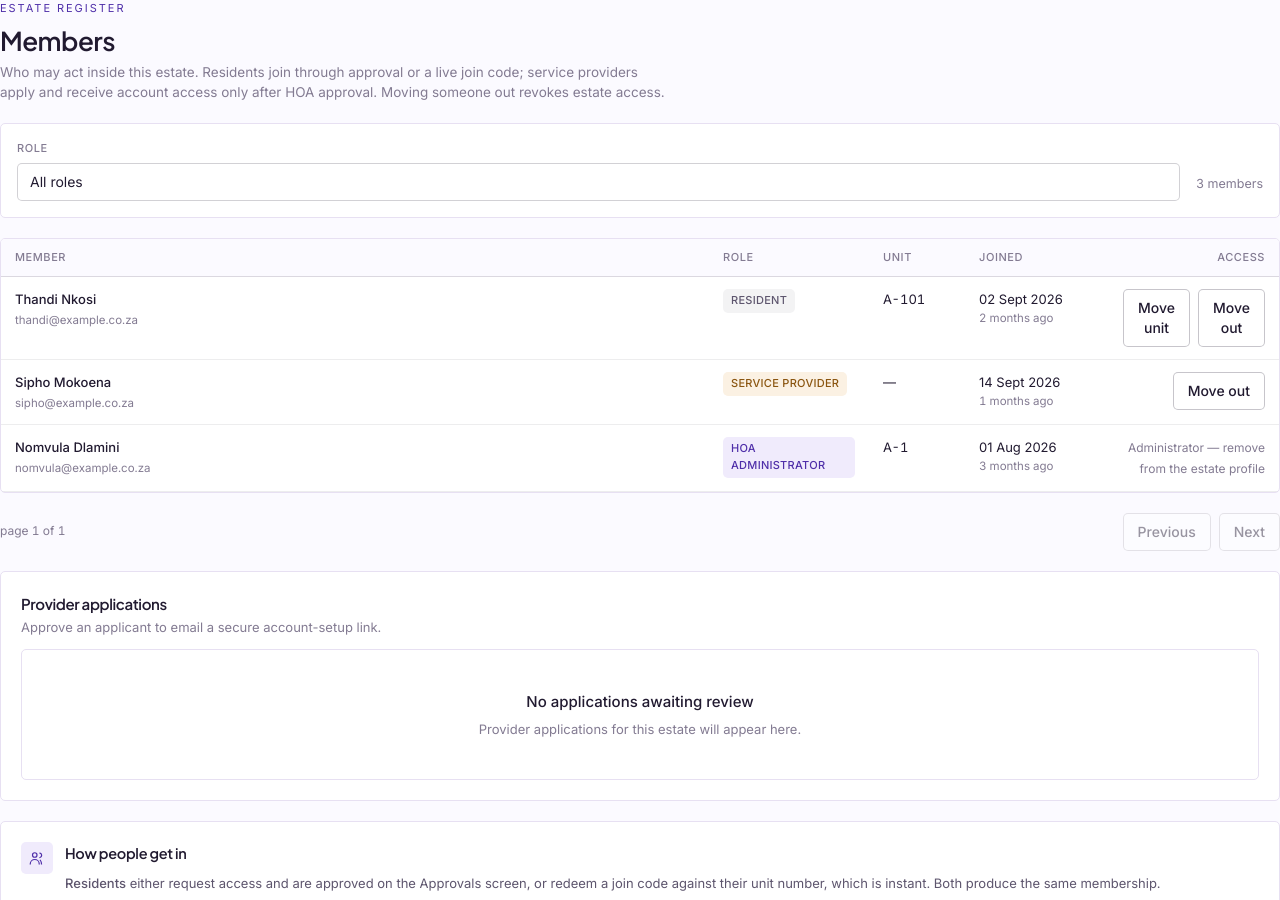
Scenario: Members — removal › confirms first, and spells out what removal does not undo
Check: the text "Thandi Nkosi" is shown, box x1=15 y1=292 x2=96 y2=308
Click the button "Move out" in the row of "Thandi Nkosi".
click(1232, 318)  # box x1=1198 y1=290 x2=1265 y2=348
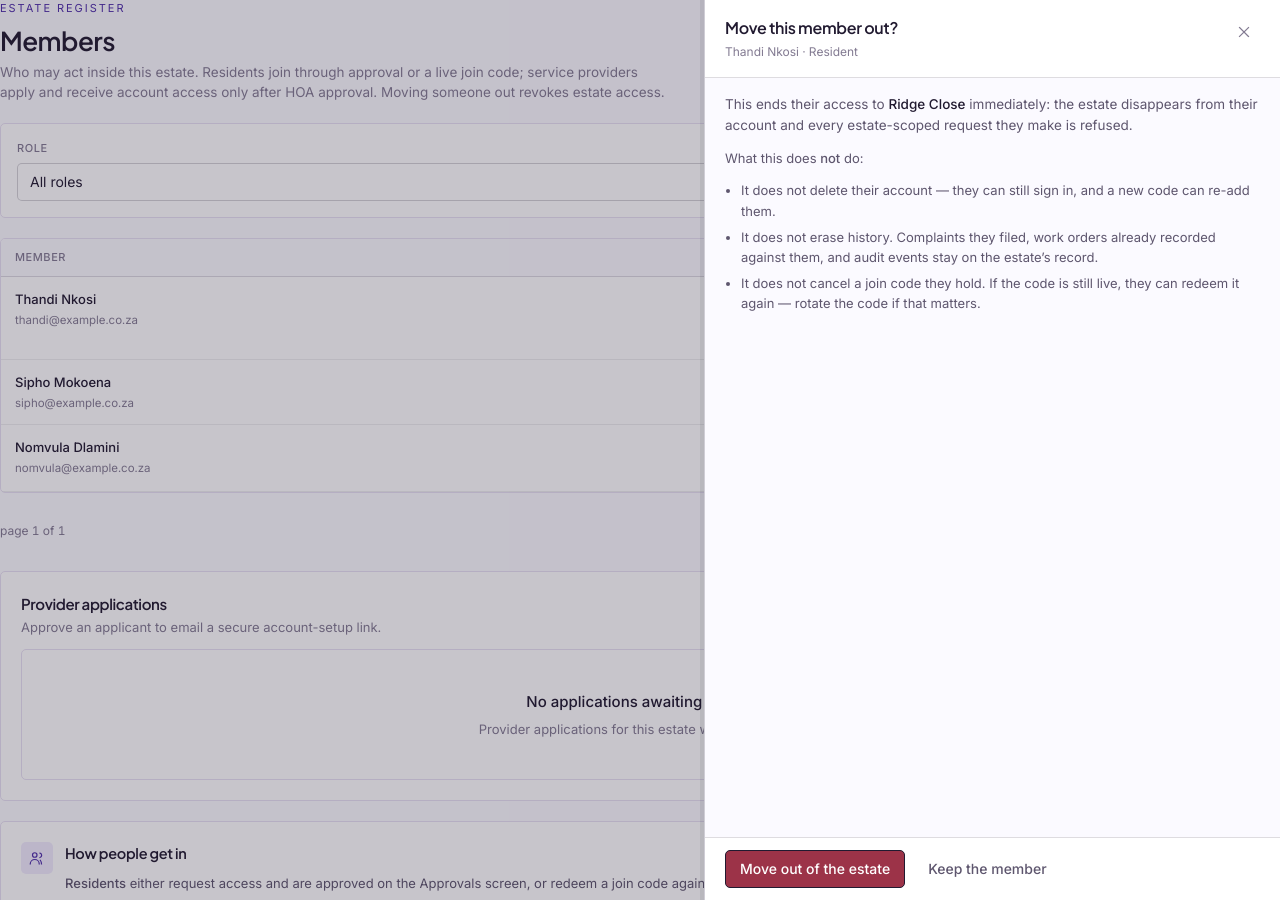
Check: the text "ends their access to" is shown, box x1=725 y1=96 x2=888 y2=112
Check: the list item "does not delete their account" is shown, box x1=741 y1=182 x2=1250 y2=218
Check: the list item "Complaints they filed" is shown, box x1=741 y1=229 x2=1216 y2=265
